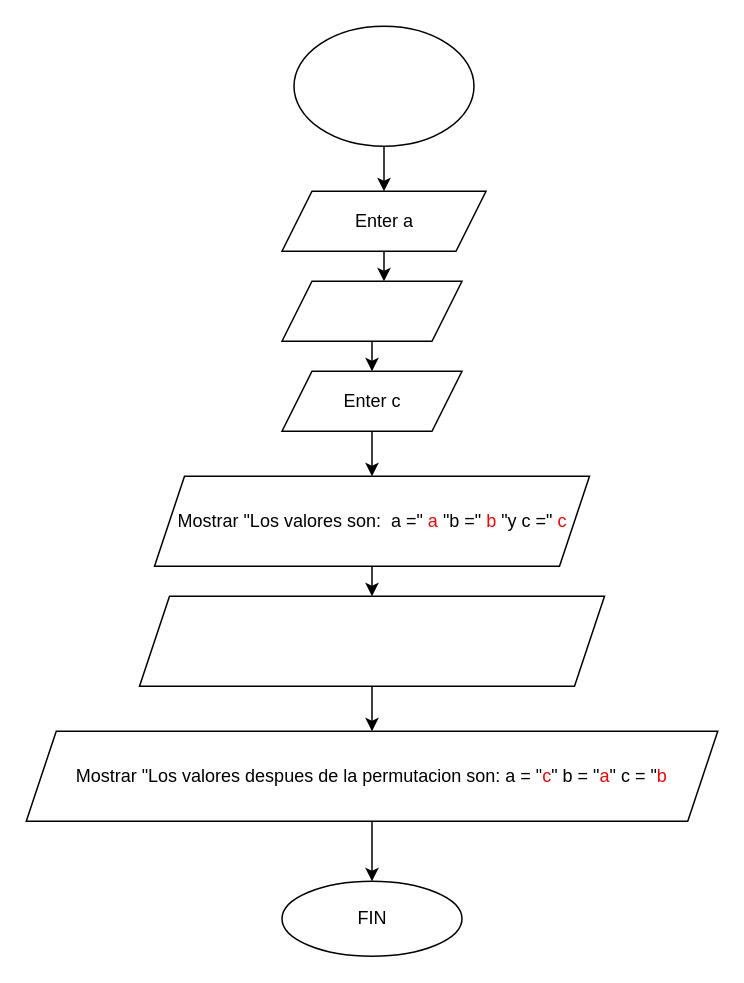
Some shapes in this 744 by 983 pixel diagram are drawn without their labels. Each missing label, with the centre of its shape:
Enter b: pixel 371 310
INICIO PRACTICO #1 EJERCIO 14: pixel 383 85
Mostrar "Permutamos: a => b, b => c, c => a": pixel 371 640
